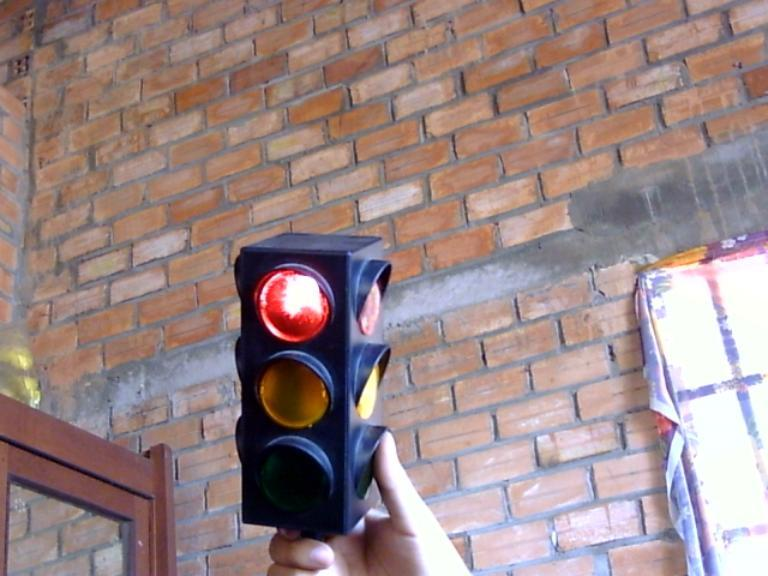red: (243, 249, 356, 351)
